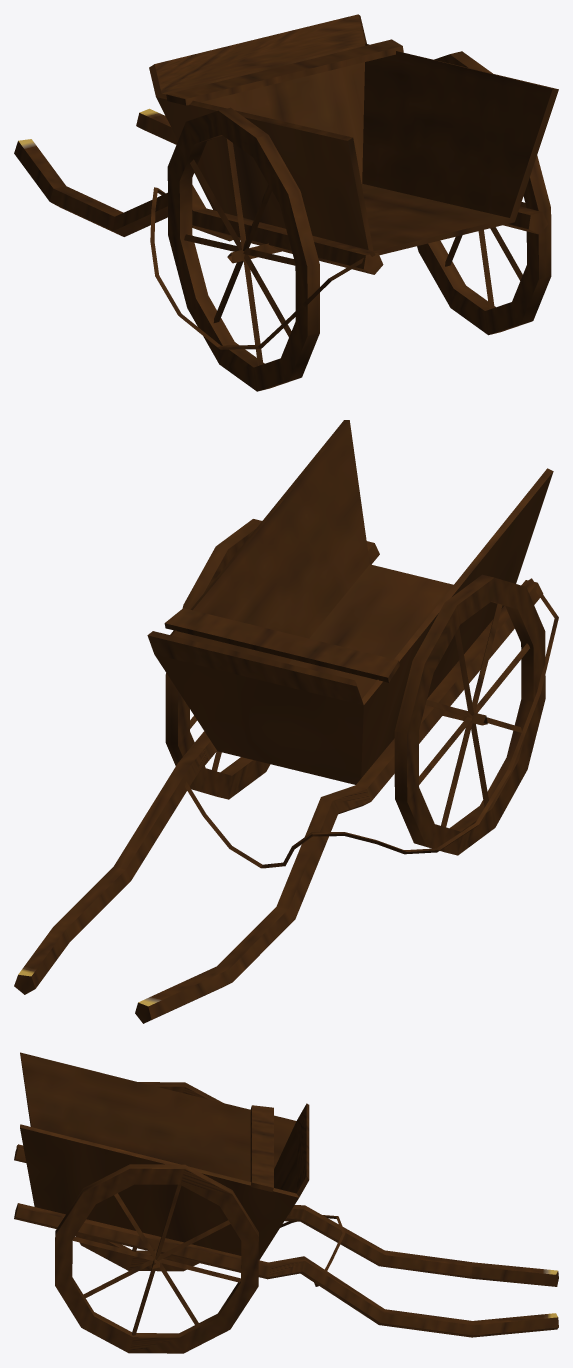
The model's file is charette01.FBX.
3 views of the same model, one above another, from view 1: azimuth 30°, elevation 25°; view 2: azimuth 150°, elevation 25°; view 3: azimuth 270°, elevation 25° (orthographic). The views are drawn at different scales.
Parts seen in each view (by area): view 1: chariotte; view 2: chariotte; view 3: chariotte.
Boxes of the visible parts, left/top/right/bottom form: chariotte: left=14, top=14, right=558, bottom=391; chariotte: left=14, top=420, right=558, bottom=1023; chariotte: left=14, top=1052, right=558, bottom=1353.
Size of the model in its own units: 1.26 by 1.4 by 3.12.
